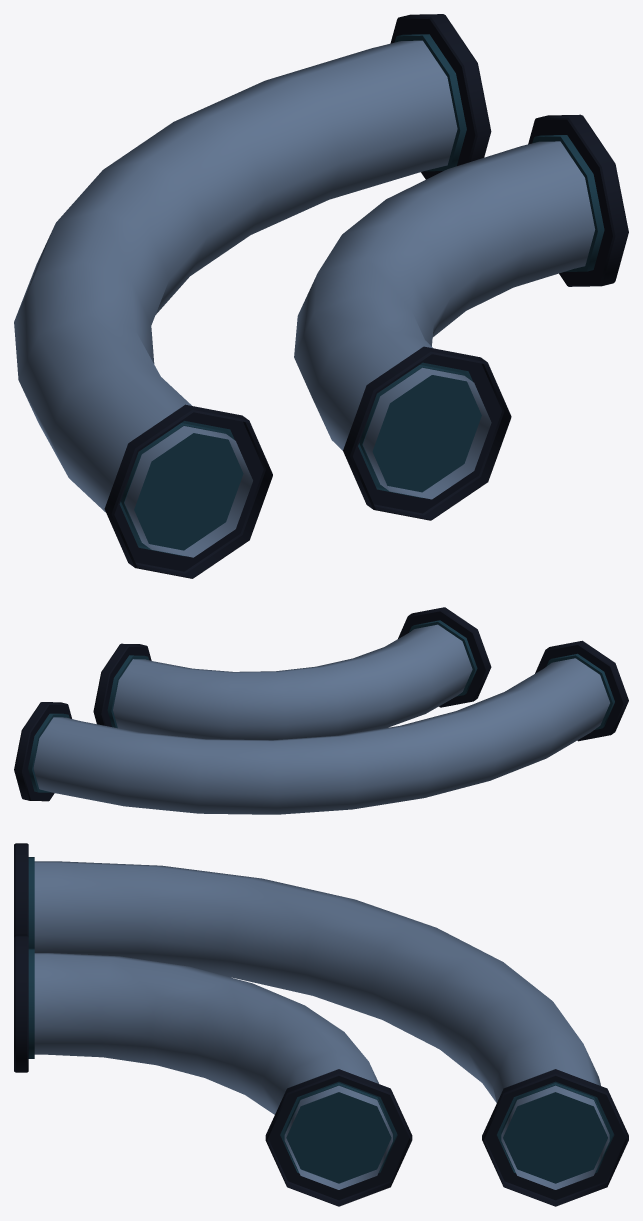
File: PipeComplexSmall_A_19.fbx
3 renders of one model, top to bottom at view 1: azimuth 30°, elevation 25°; view 2: azimuth 150°, elevation 25°; view 3: azimuth 270°, elevation 25°, orthographic. The views are drawn at different scales.
Parts seen in each view (by area): view 1: PipeComplexSmall_A_19.001; view 2: PipeComplexSmall_A_19.001; view 3: PipeComplexSmall_A_19.001.
Boxes of the visible parts, x1=… form: PipeComplexSmall_A_19.001: x1=14, y1=14, x2=628, y2=578; PipeComplexSmall_A_19.001: x1=14, y1=607, x2=628, y2=814; PipeComplexSmall_A_19.001: x1=14, y1=843, x2=628, y2=1206.
Size of the model in its own units: 0.5678 by 0.1356 by 0.5678.
